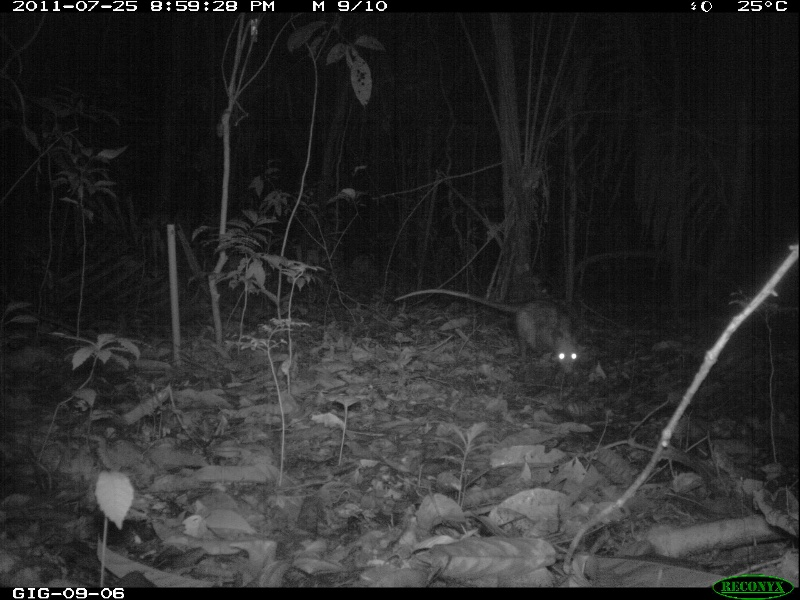opossum: (390, 284, 581, 373)
